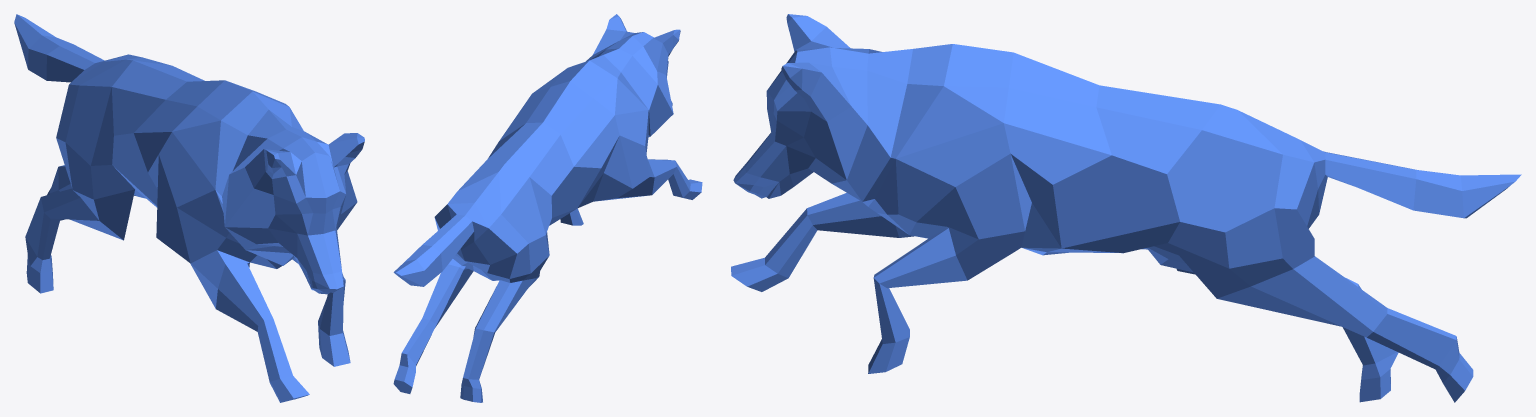
File: wolfRunA_v009002.obj
3 views of the same model, side by side, from view 1: azimuth 30°, elevation 25°; view 2: azimuth 150°, elevation 25°; view 3: azimuth 270°, elevation 25° (orthographic). The views are drawn at different scales.
Visible parts, largest first — view 1: comp_wolf_rig:wolf_body comp_wolf_rig:wolf; view 2: comp_wolf_rig:wolf_body comp_wolf_rig:wolf; view 3: comp_wolf_rig:wolf_body comp_wolf_rig:wolf.
Part boxes in pixels (<box>): comp_wolf_rig:wolf_body comp_wolf_rig:wolf: <box>14,14,364,402</box>; comp_wolf_rig:wolf_body comp_wolf_rig:wolf: <box>393,14,702,402</box>; comp_wolf_rig:wolf_body comp_wolf_rig:wolf: <box>731,14,1521,402</box>.
Bounding box in the file's own units: 34.47 × 71.17 × 137.
